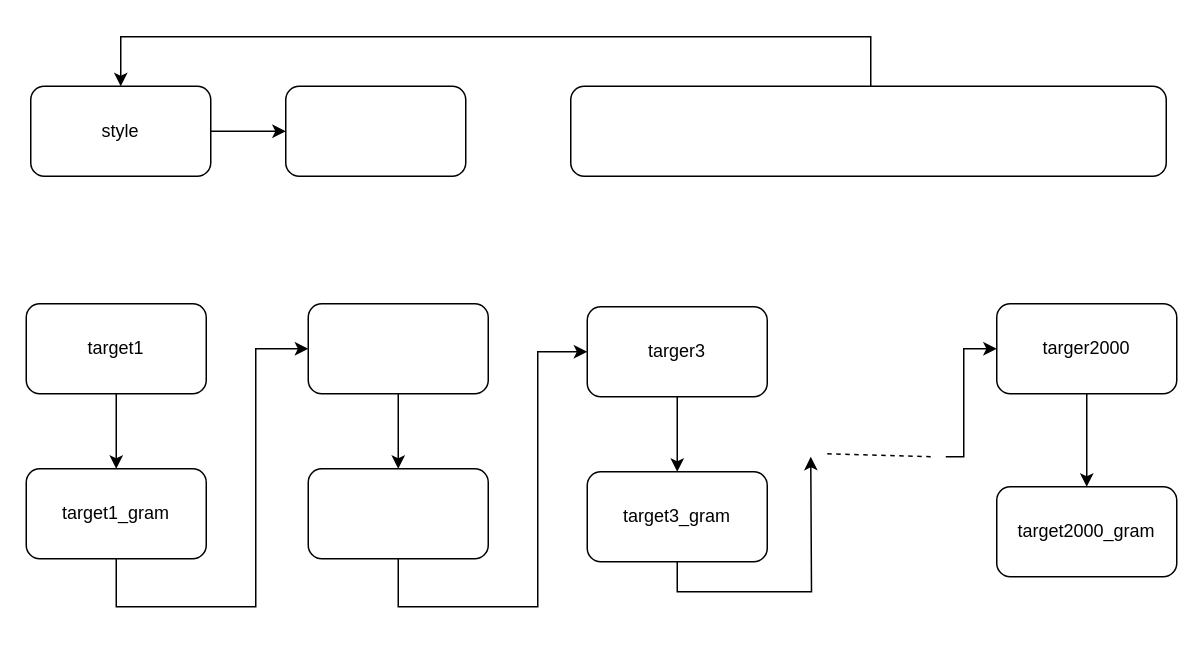
This 1203x645 diagram has some shape labels left out. Here are the shapes that lost their labels. From the top down, the centre of each, then its label:
point (375, 130): style_gram
point (867, 130): vgg
point (397, 348): targer2
point (397, 513): target2_gram
